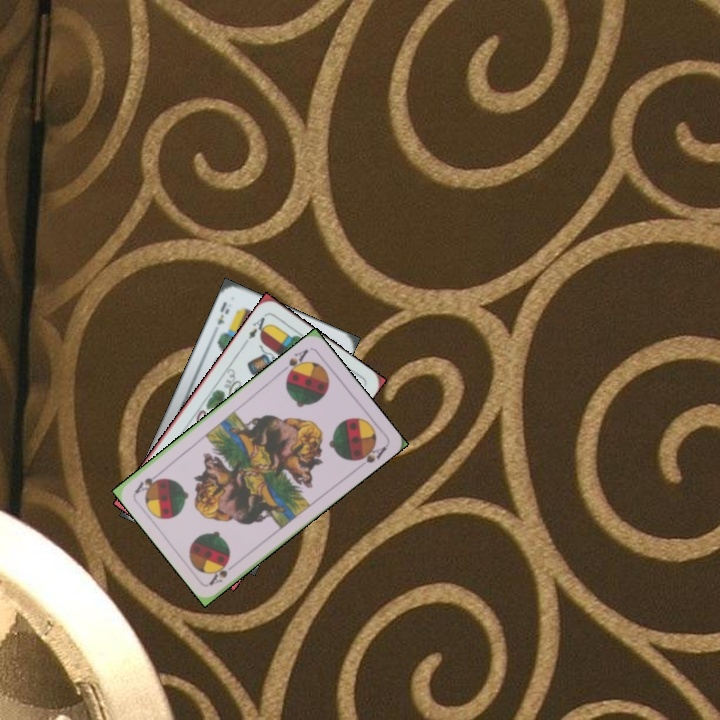EA: (240, 313, 271, 346)
EK: (213, 298, 232, 327)
SA: (277, 345, 311, 380), (205, 557, 240, 588)
